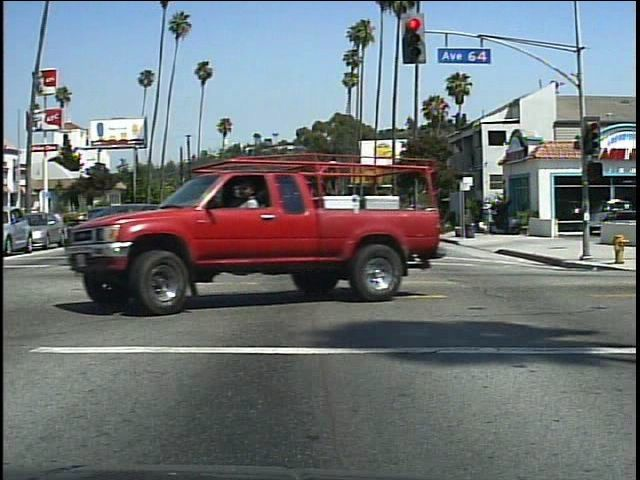person: (234, 176, 275, 299), (481, 200, 498, 236)
